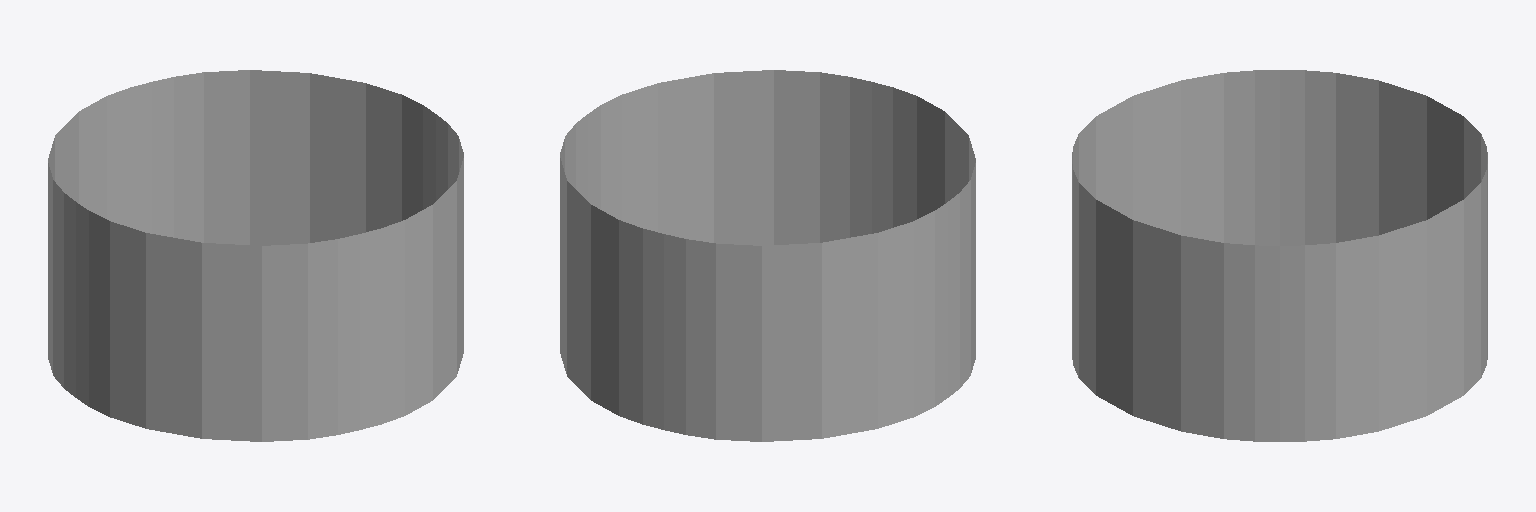
File: cilindrosombrero.obj
3 views of the same model, side by side, from view 1: azimuth 30°, elevation 25°; view 2: azimuth 150°, elevation 25°; view 3: azimuth 270°, elevation 25° (orthographic).
Visible parts, largest first — view 1: Surface; view 2: Surface; view 3: Surface.
Part boxes in pixels (x1,y1,x2,y2): Surface: (48, 70, 463, 441); Surface: (560, 70, 975, 441); Surface: (1072, 70, 1487, 441).
Bounding box in the file's own units: 2.59 × 1.35 × 2.59.